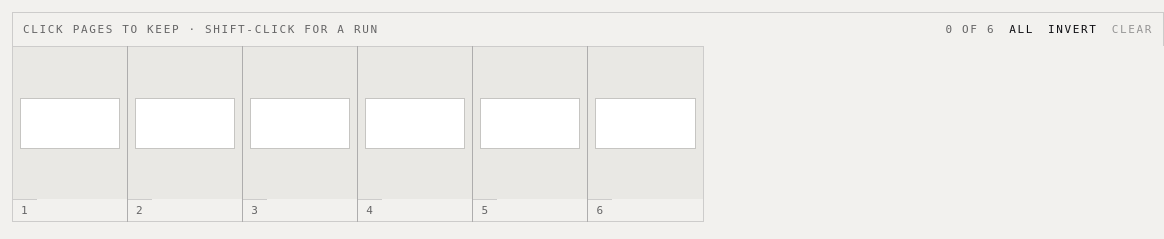
Test: PageGrid keep / remove › toggles pages into the spec, sorted and compacted
This screenshot has width=1164, height=239.
Click the button named "Keep page 4".
click(415, 134)  # box 358,47 -> 472,221
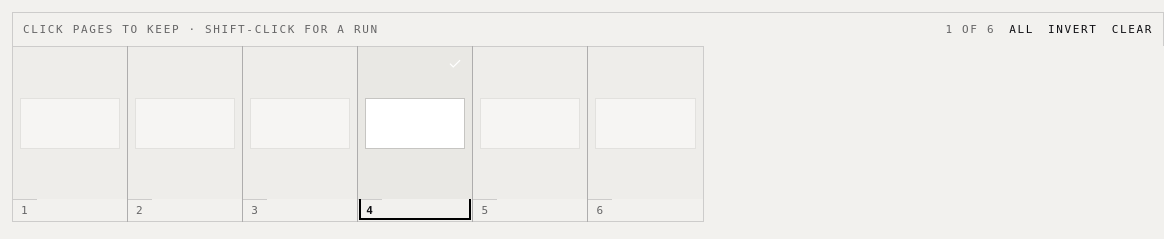
Click the button named "Keep page 1".
click(70, 134)  # box 13,47 -> 127,221
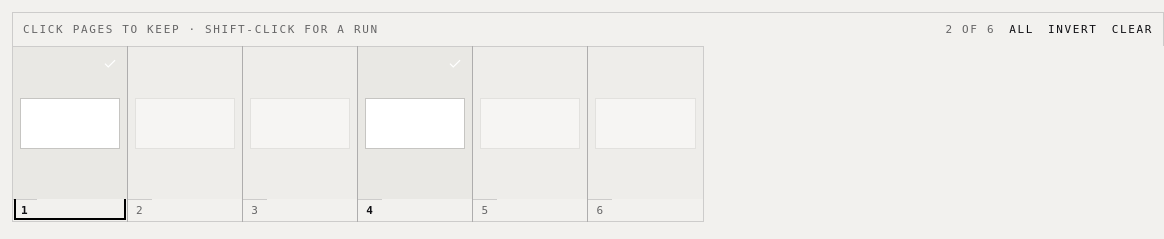
Click the button named "Keep page 2".
click(185, 134)  # box 128,47 -> 242,221
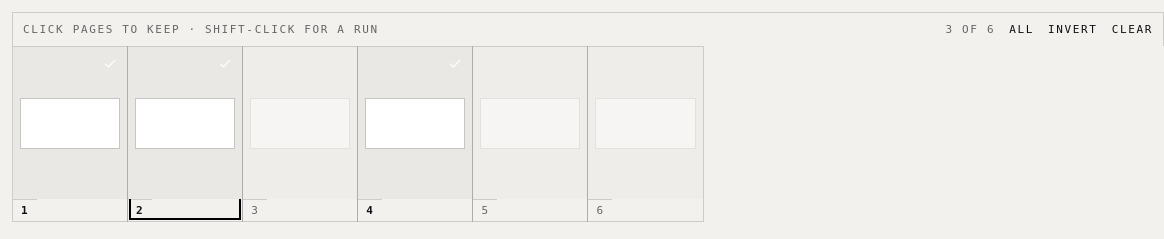
Now the button named "Keep page 4" is pressed
Click the button named "Keep page 4".
click(415, 134)  # box 358,47 -> 472,221
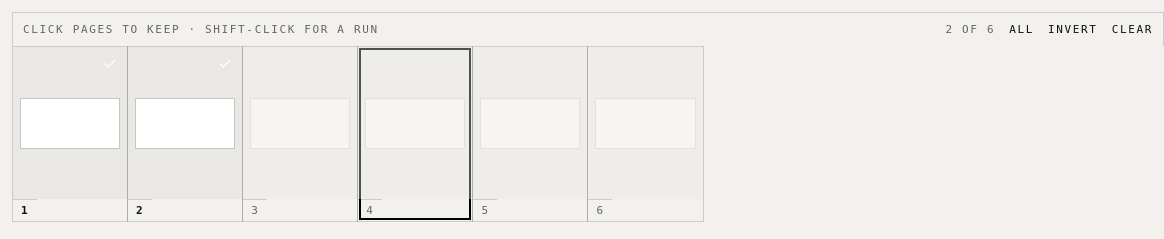
Now the text "2 of 6" is shown, box 946,22 -> 995,37
